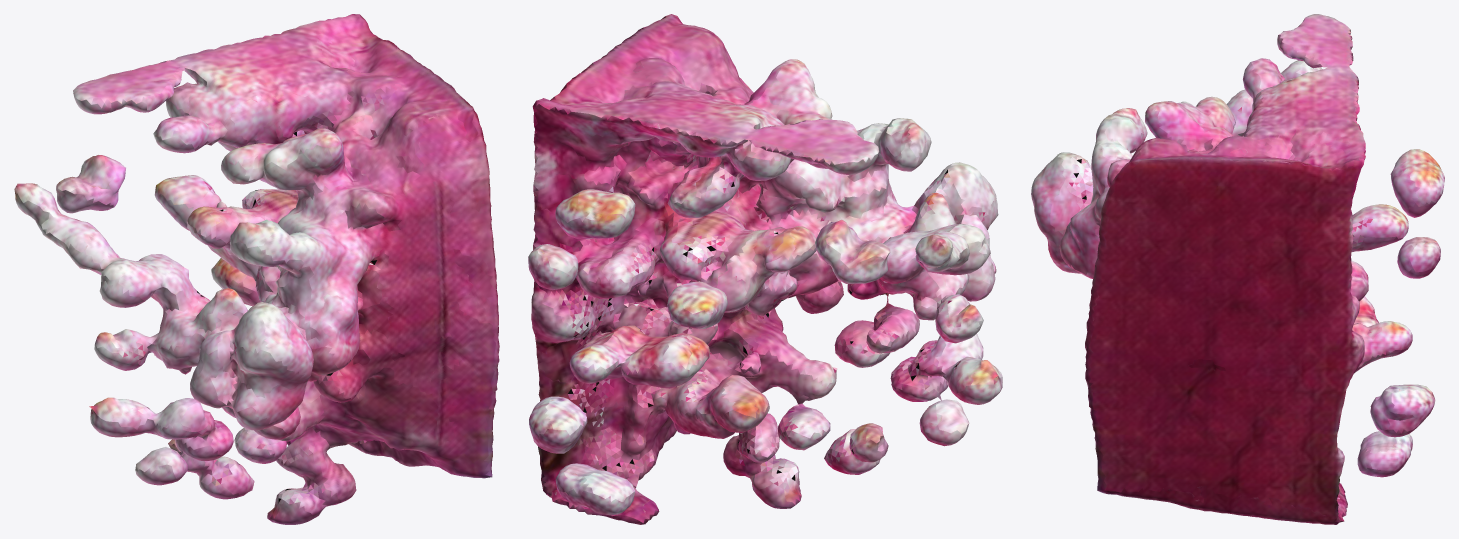
Rendered from tile_101.glb.
3 renders of one model, left to right at view 1: azimuth 30°, elevation 25°; view 2: azimuth 150°, elevation 25°; view 3: azimuth 270°, elevation 25°, orthographic. The views are drawn at different scales.
Visible parts, largest first — view 1: world; view 2: world; view 3: world.
Boxes of the visible parts, <box> form: world: <box>14,14,499,524</box>; world: <box>528,14,1002,524</box>; world: <box>1031,14,1444,524</box>.
Bounding box in the file's own units: 0.914 × 0.9729 × 0.9252.
1 material, 1 textured.
